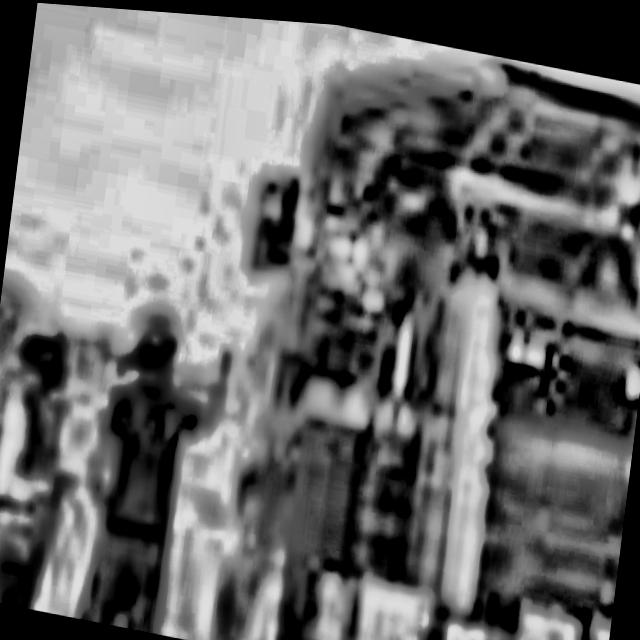dump_truck: (203, 12, 640, 640)
